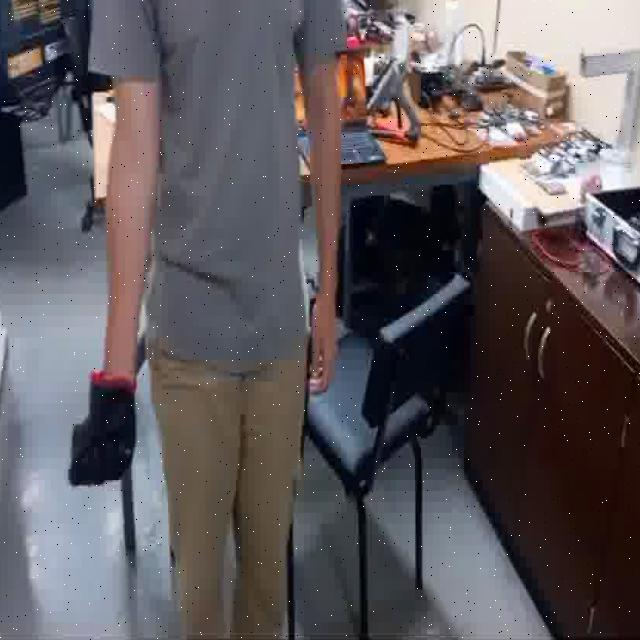Gloves: (69, 372, 138, 487)
